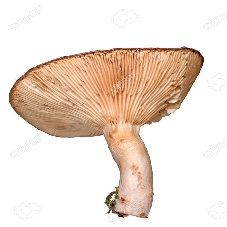mushroom: (10, 45, 205, 218)
